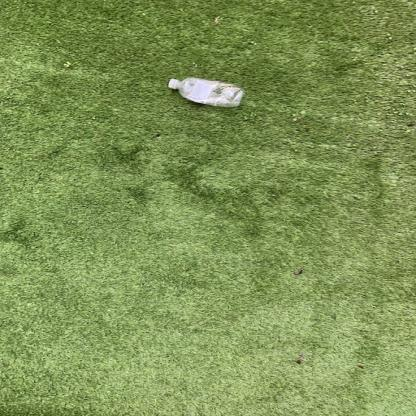trash: (165, 74, 246, 111)
